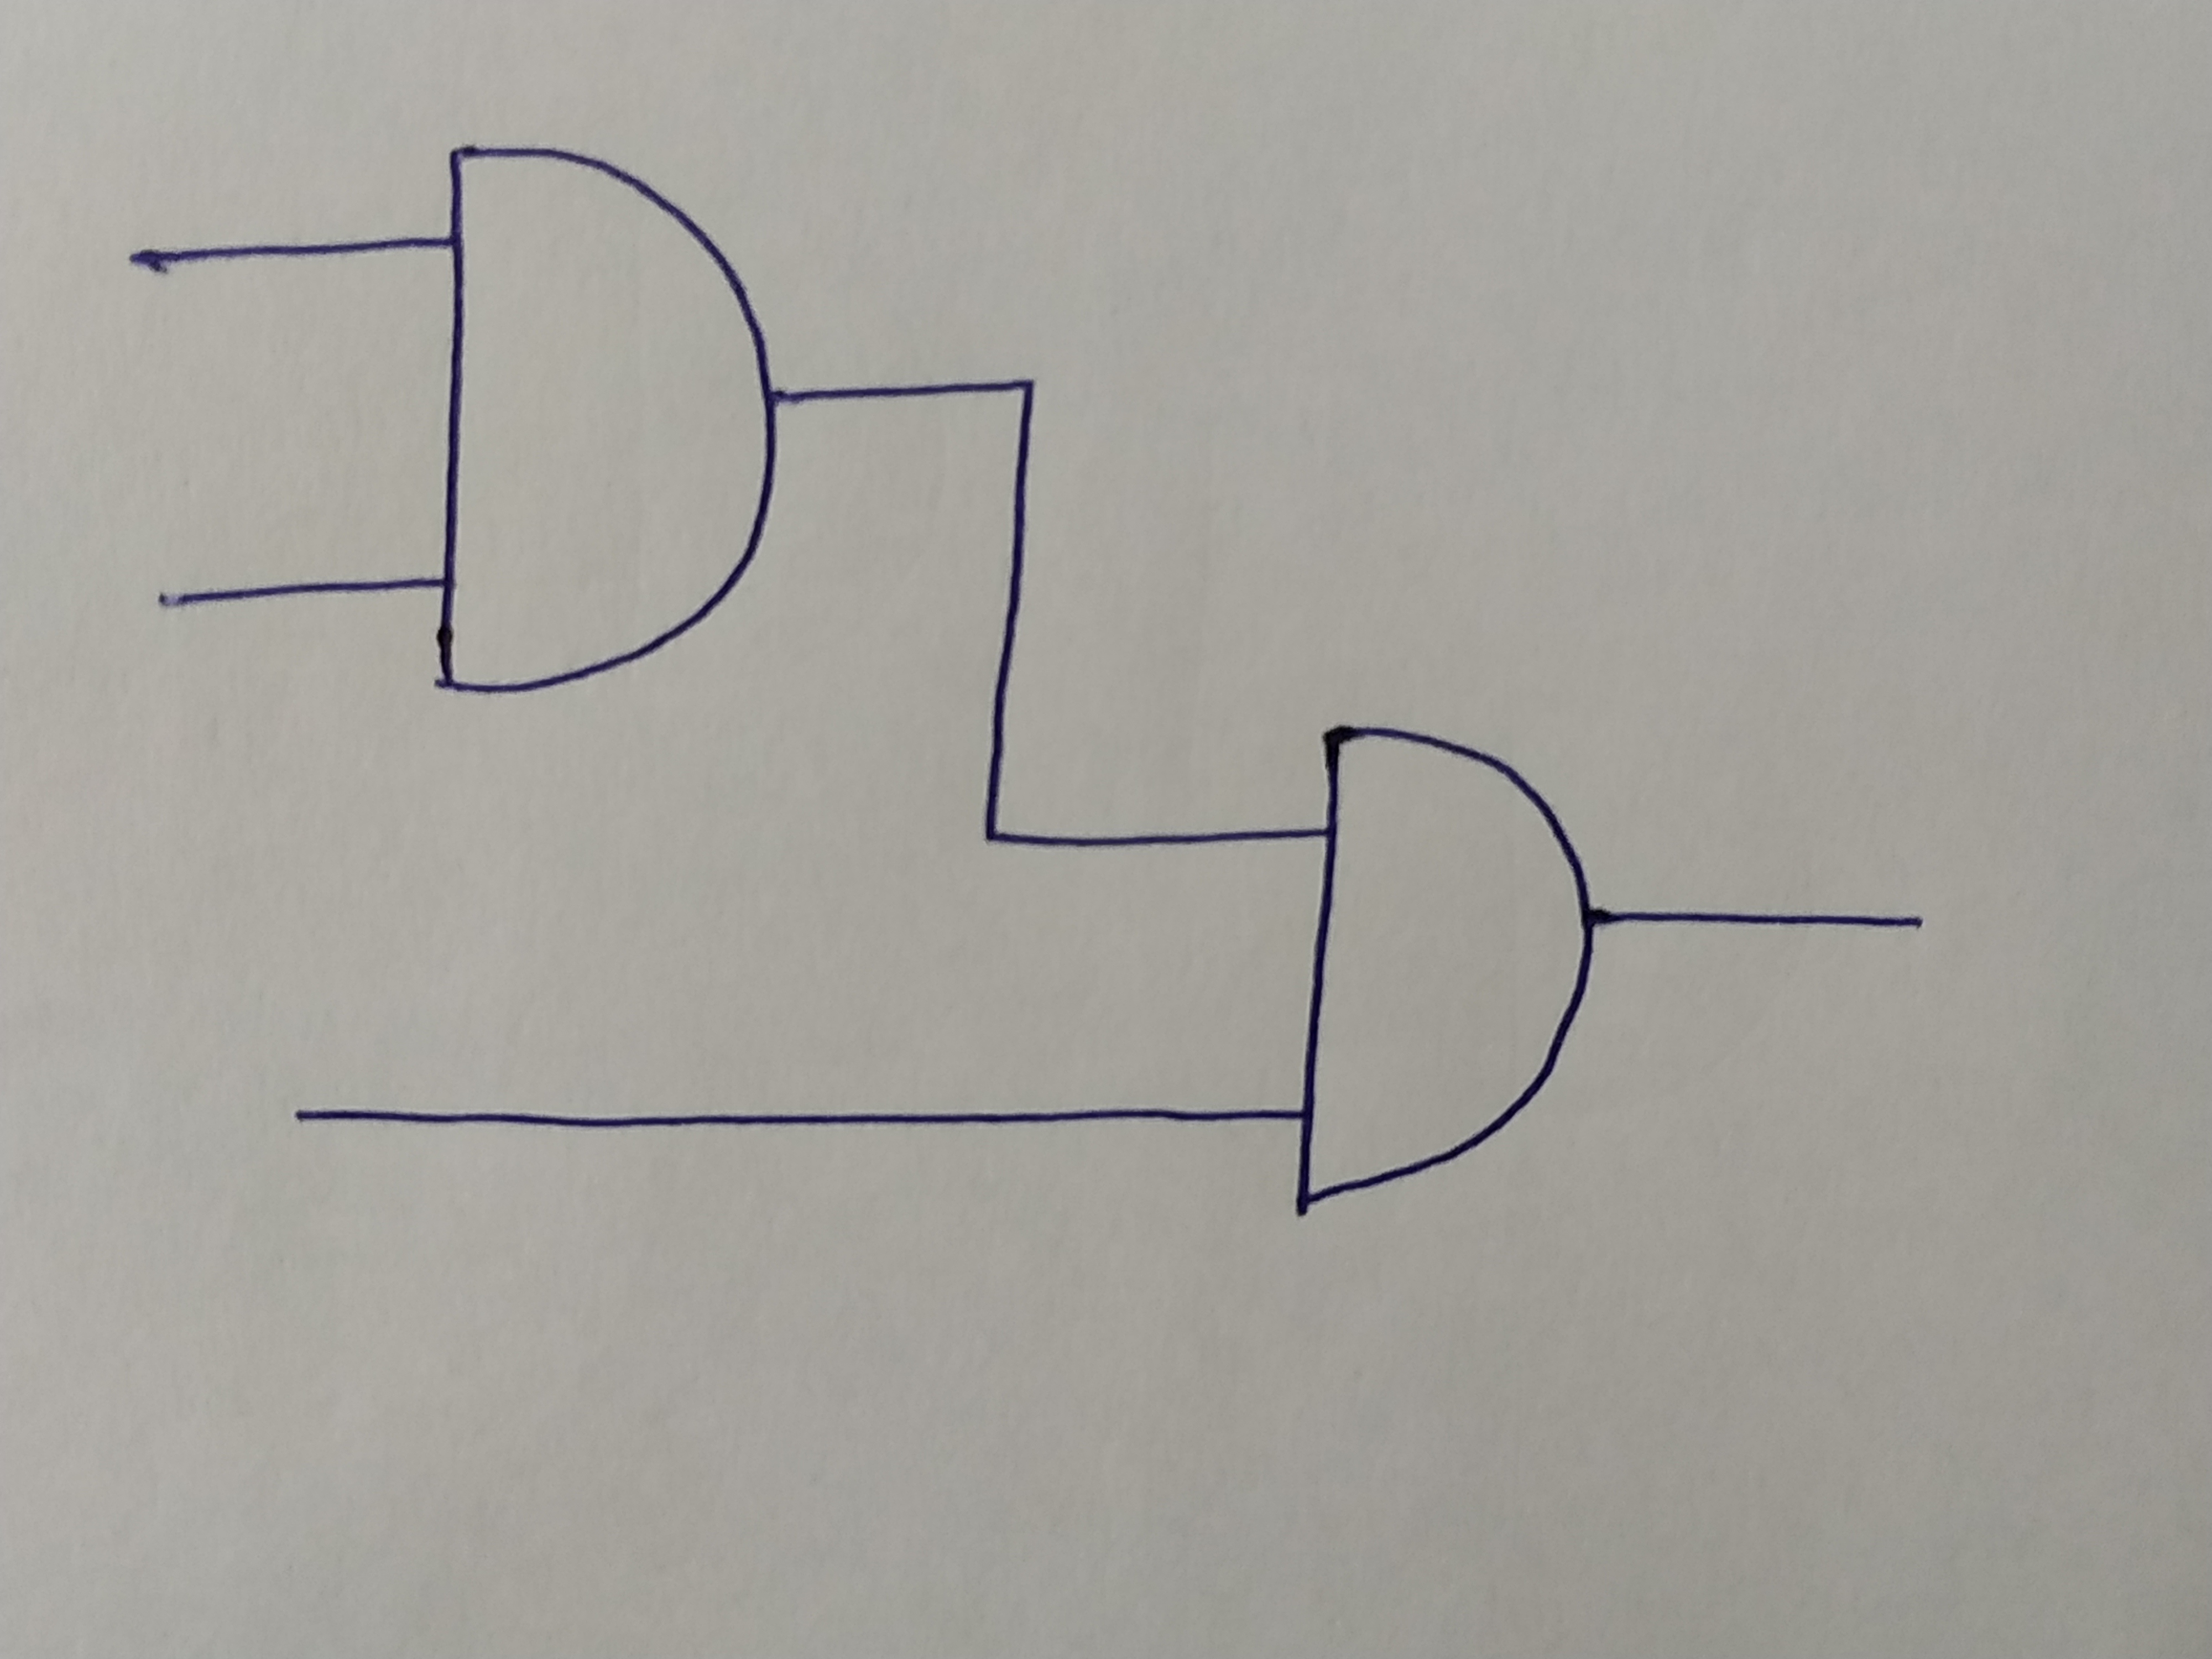and: (444, 150, 775, 701), (1298, 723, 1590, 1209)
